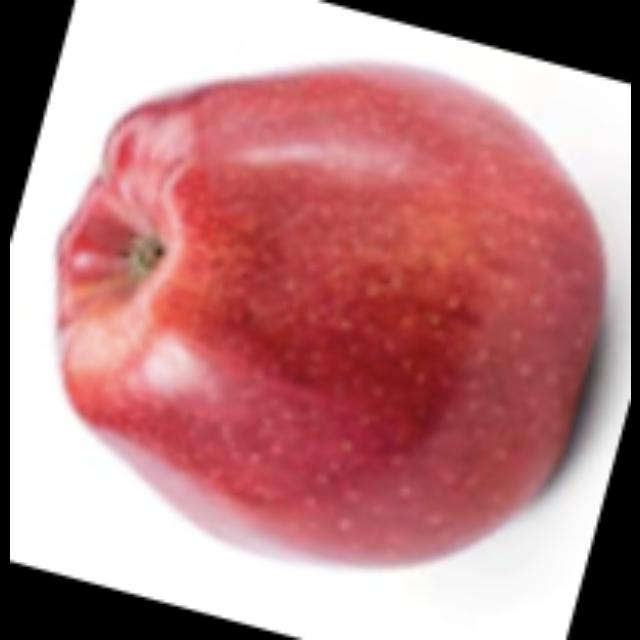Apel Segar: (53, 56, 609, 572)
